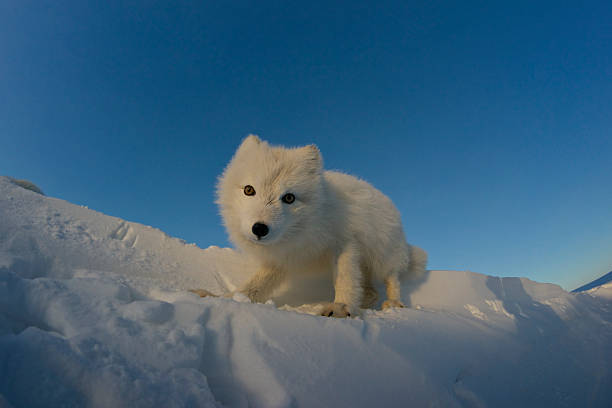arcticfox: (219, 155, 332, 261)
